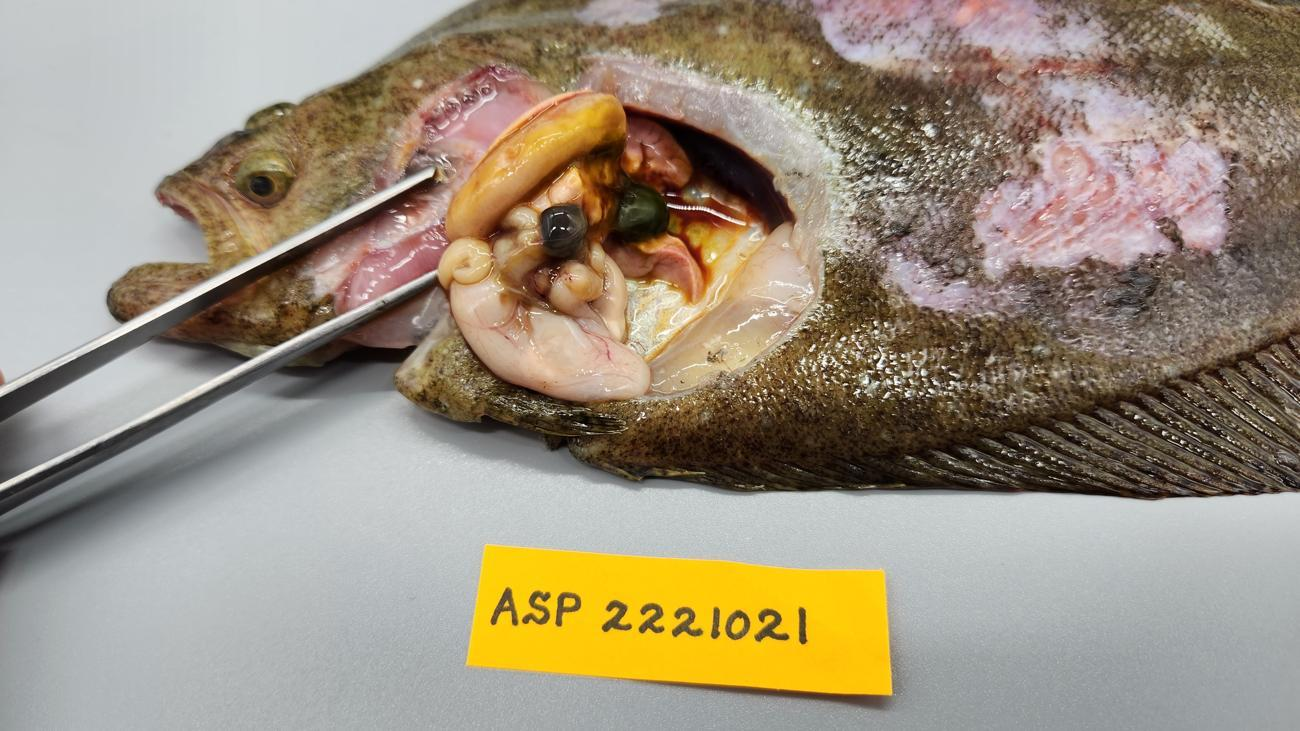SPINH: (597, 105, 624, 142)
SPINI: (445, 103, 588, 240)
